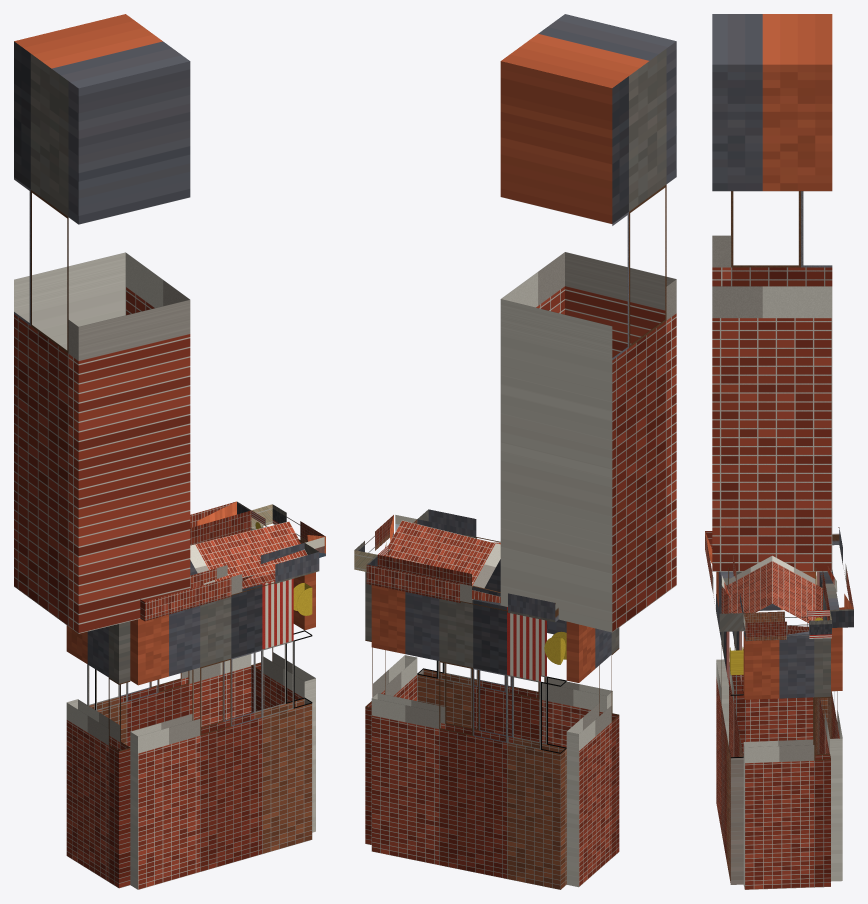
3 views of the same model, side by side, from view 1: azimuth 30°, elevation 25°; view 2: azimuth 150°, elevation 25°; view 3: azimuth 270°, elevation 25° (orthographic). The views are drawn at different scales.
Parts seen in each view (by area): view 1: 1106967114__chimney_0_xb, 1106967114__wall_0_xb, 1106967114__wall_1_xb, 1106967114__wall_2_xb, 1106967114_roof_-1_xb, 1106967114__cornice_0, 1106967114__wall_3_xb, 1106967114__cornice_2, 1106967114__cornice_3; view 2: 1106967114__chimney_0_xb, 1106967114__wall_2_xb, 1106967114__wall_1_xb, 1106967114__wall_0_xb, 1106967114__cornice_2, 1106967114_roof_1_xb, 1106967114__wall_3_xb, 1106967114__cornice_0, 1106967114__cornice_3; view 3: 1106967114__chimney_0_xb, 1106967114__wall_3_xb, 1106967114__wall_0_xb, 1106967114__wall_2_xb, 1106967114__wall_1_xb, 1106967114_roof_1_xb, 1106967114_roof_-1_xb, 1106967114__cornice_3, 1106967114__cornice_2, 1106967114__cornice_0.
Part boxes in pixels (x1=…): 1106967114__chimney_0_xb: x1=14, y1=14, x2=190, y2=633; 1106967114__wall_0_xb: x1=130, y1=578, x2=312, y2=889; 1106967114__wall_1_xb: x1=66, y1=621, x2=130, y2=888; 1106967114__wall_2_xb: x1=87, y1=530, x2=251, y2=747; 1106967114_roof_-1_xb: x1=190, y1=521, x2=307, y2=588; 1106967114__cornice_0: x1=140, y1=543, x2=319, y2=621; 1106967114__wall_3_xb: x1=251, y1=526, x2=315, y2=832; 1106967114__cornice_2: x1=190, y1=501, x2=251, y2=545; 1106967114__cornice_3: x1=251, y1=504, x2=325, y2=557; 1106967114__chimney_0_xb: x1=500, y1=14, x2=676, y2=632; 1106967114__wall_2_xb: x1=371, y1=585, x2=566, y2=889; 1106967114__wall_1_xb: x1=566, y1=621, x2=619, y2=887; 1106967114__wall_0_xb: x1=417, y1=559, x2=612, y2=747; 1106967114__cornice_2: x1=366, y1=555, x2=558, y2=622; 1106967114_roof_1_xb: x1=384, y1=520, x2=500, y2=592; 1106967114__wall_3_xb: x1=365, y1=572, x2=417, y2=844; 1106967114__cornice_0: x1=417, y1=509, x2=500, y2=544; 1106967114__cornice_3: x1=354, y1=515, x2=417, y2=571; 1106967114__chimney_0_xb: x1=712, y1=14, x2=832, y2=571; 1106967114__wall_3_xb: x1=743, y1=631, x2=830, y2=889; 1106967114__wall_0_xb: x1=716, y1=571, x2=743, y2=884; 1106967114__wall_2_xb: x1=815, y1=570, x2=842, y2=881; 1106967114__wall_1_xb: x1=732, y1=571, x2=815, y2=755; 1106967114_roof_1_xb: x1=772, y1=556, x2=822, y2=623; 1106967114_roof_-1_xb: x1=721, y1=556, x2=772, y2=617; 1106967114__cornice_3: x1=743, y1=610, x2=831, y2=641; 1106967114__cornice_2: x1=820, y1=527, x2=853, y2=627; 1106967114__cornice_0: x1=705, y1=531, x2=743, y2=631.
Bounding box in the file's own units: 0.3562 × 1.05 × 0.1863.
Materials: 1 (1 with a texture image).
